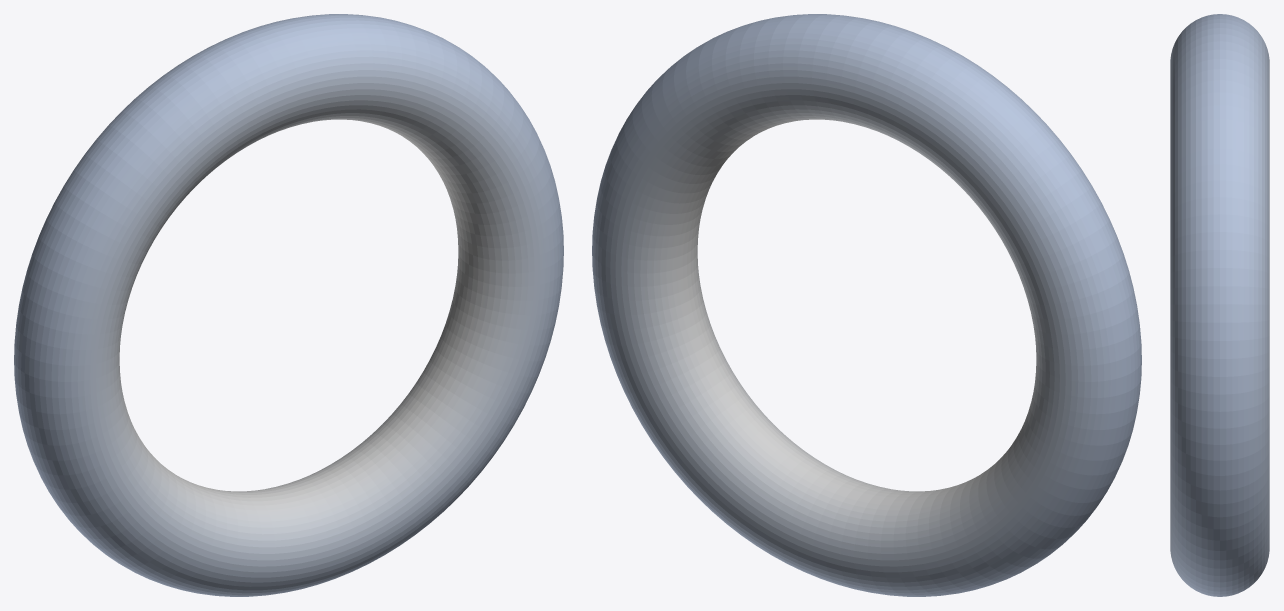
3 renders of one model, left to right at view 1: azimuth 30°, elevation 25°; view 2: azimuth 150°, elevation 25°; view 3: azimuth 270°, elevation 25°, orthographic. The views are drawn at different scales.
Parts seen in each view (by area): view 1: world; view 2: world; view 3: world.
Boxes of the visible parts, x1=… form: world: x1=14, y1=14, x2=563, y2=596; world: x1=592, y1=14, x2=1141, y2=596; world: x1=1170, y1=14, x2=1269, y2=596.
Bounding box in the file's own units: 27.33 × 27.33 × 4.66.
